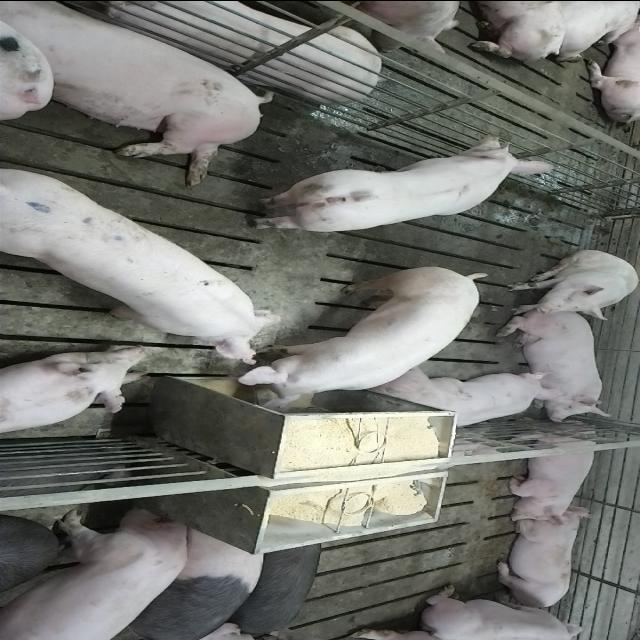Lateral_lying: (5, 4, 278, 188), (97, 0, 381, 103)
Sitting: (503, 250, 637, 318)
Standing: (5, 162, 283, 366), (227, 264, 483, 406), (242, 132, 556, 232), (0, 505, 196, 637), (103, 521, 267, 638), (228, 536, 326, 632)
Sternal_lying: (0, 348, 151, 438), (502, 313, 614, 421), (369, 370, 555, 430), (491, 510, 589, 610), (502, 426, 602, 524), (416, 584, 596, 637)
